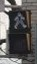walk: (7, 8, 31, 33)
